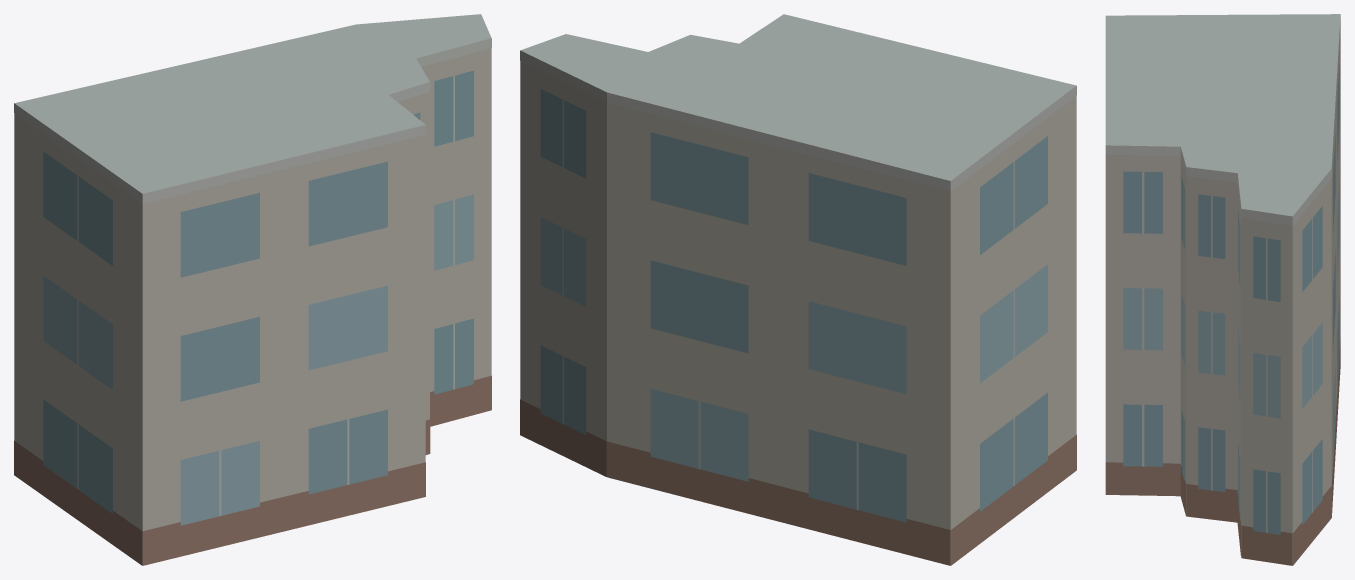
Rendered from survey-upis-32464322.glb.
3 views of the same model, side by side, from view 1: azimuth 30°, elevation 25°; view 2: azimuth 150°, elevation 25°; view 3: azimuth 270°, elevation 25° (orthographic). The views are drawn at different scales.
Parts seen in each view (by area): view 1: survey-upis-32464322.tmp; view 2: survey-upis-32464322.tmp; view 3: survey-upis-32464322.tmp.
Boxes of the visible parts, x1,y1,x2,y2 form: survey-upis-32464322.tmp: (14,14,491,565); survey-upis-32464322.tmp: (520,14,1076,565); survey-upis-32464322.tmp: (1105,14,1340,565).
Size of the model in its own units: 11.38 by 9.15 by 5.59.
